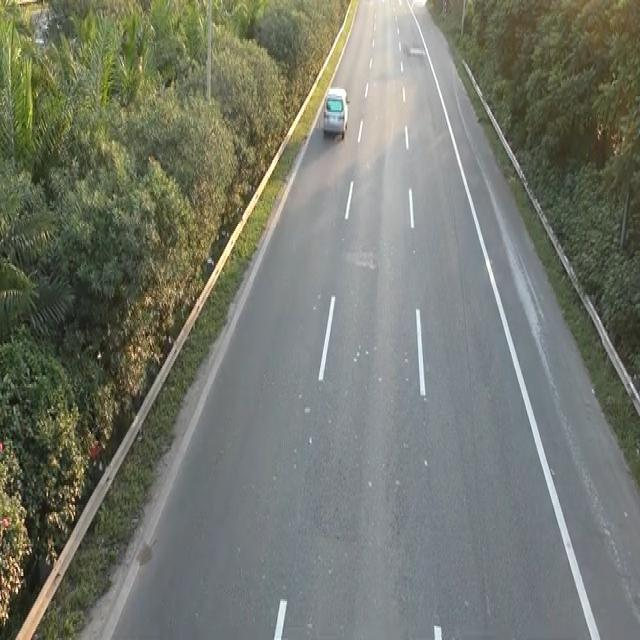lorry: (321, 84, 350, 140)
